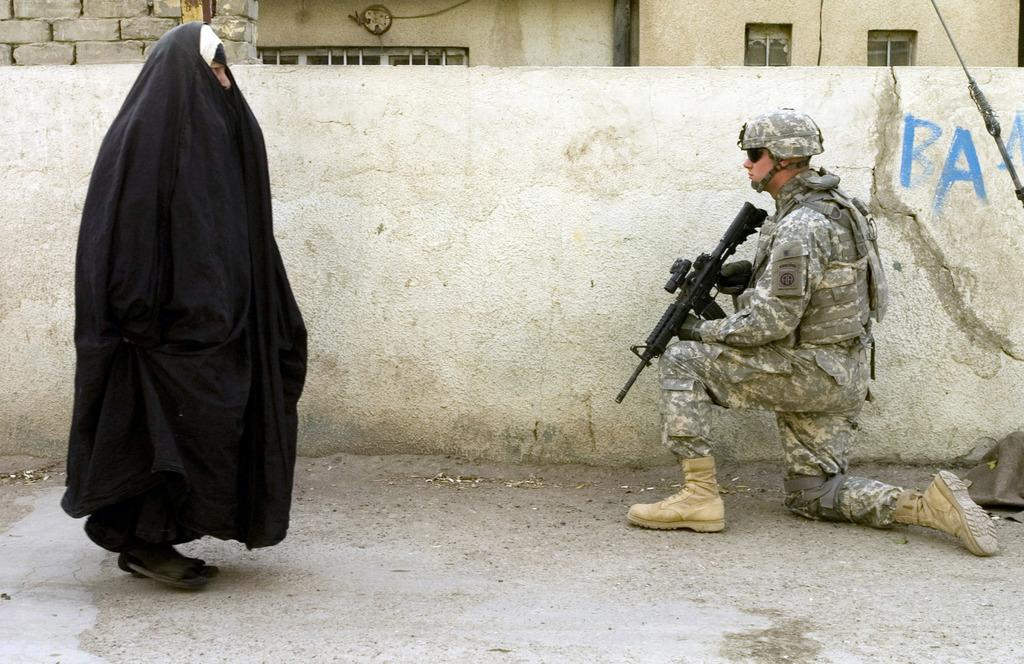Rifle: (614, 199, 769, 405)
